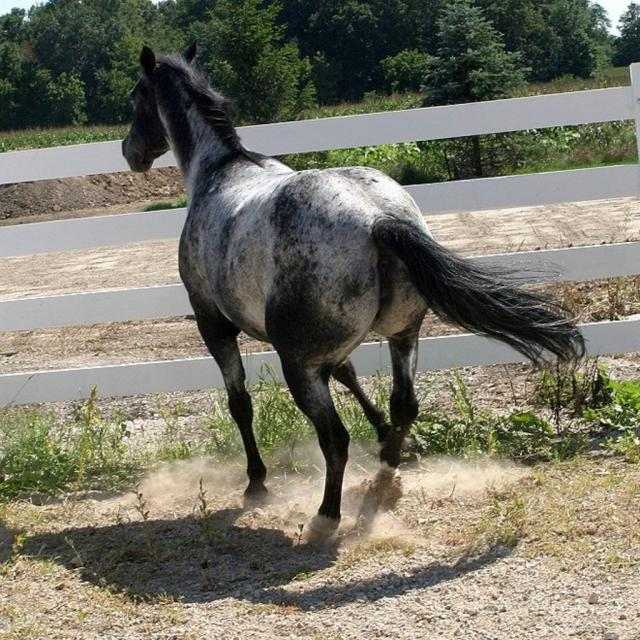Horse: (116, 44, 588, 546)
